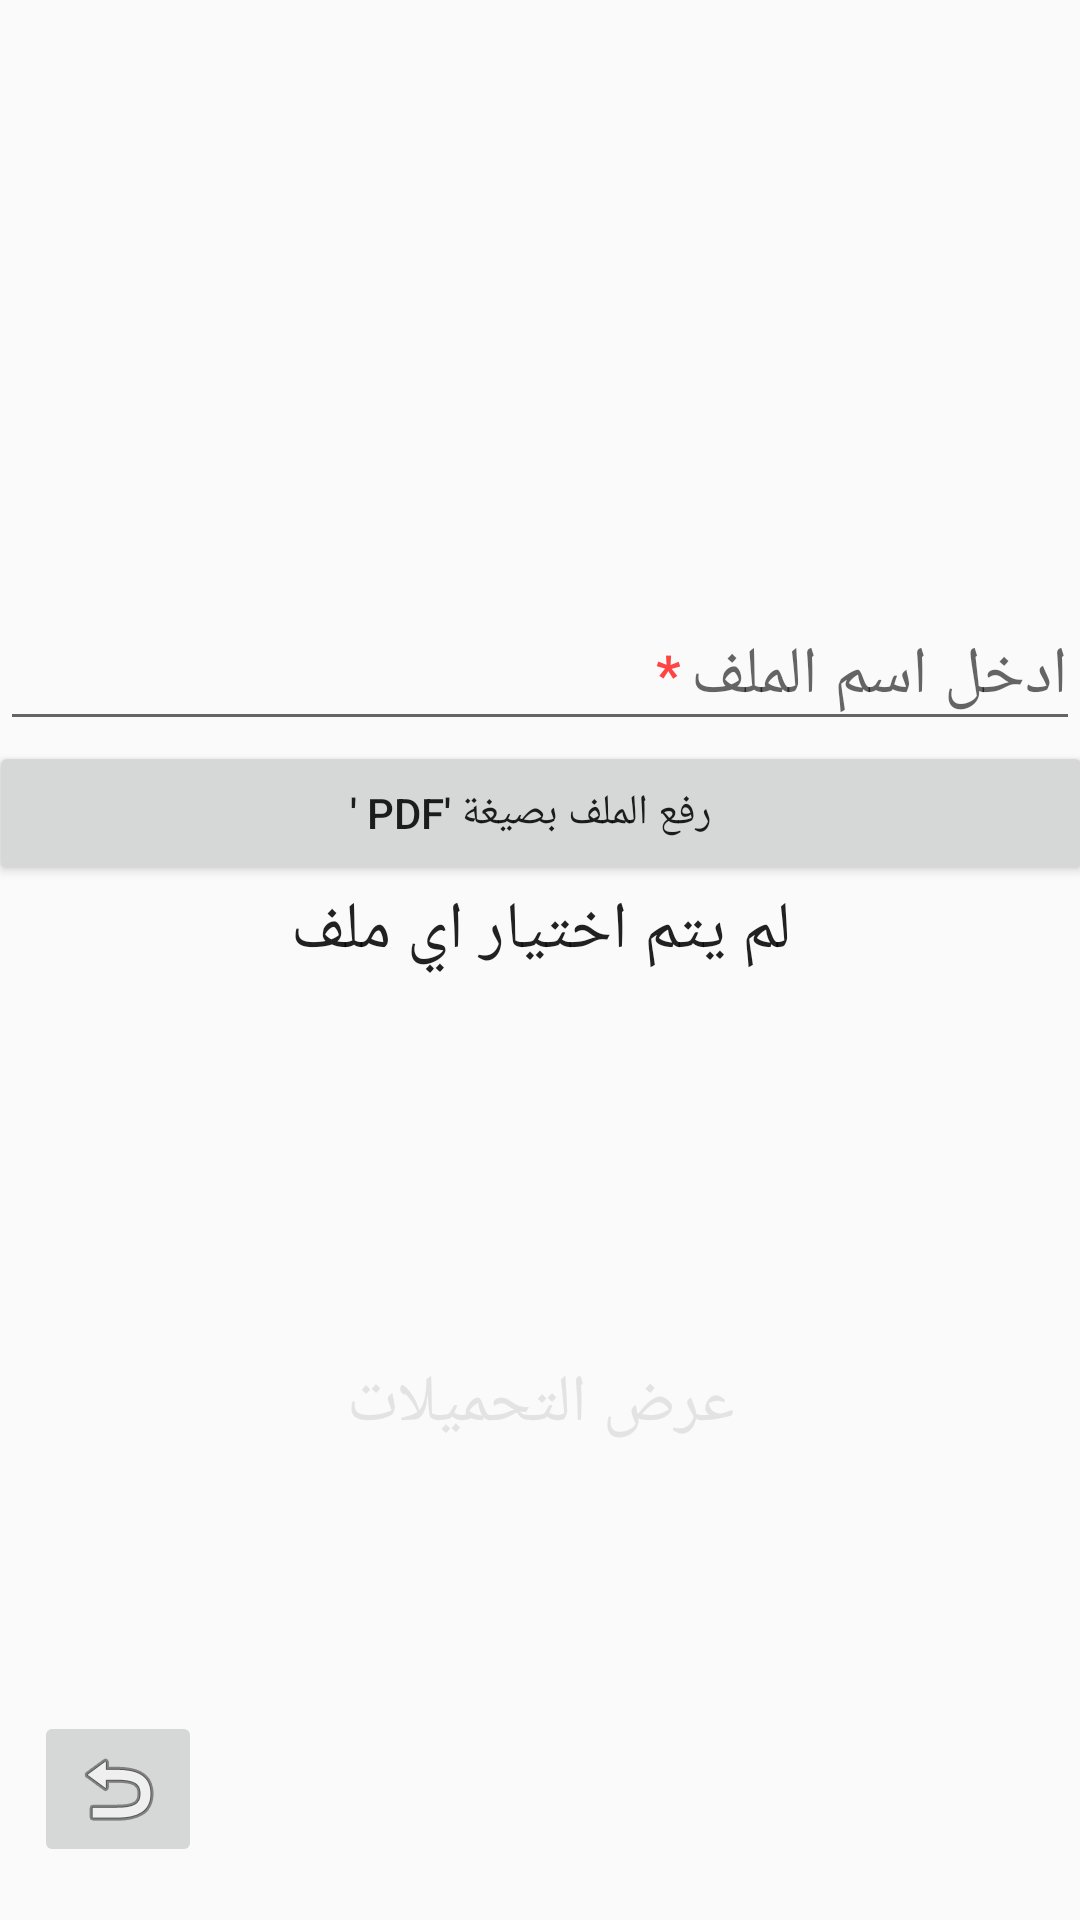

Where to tap for icons on this 1080*1920 app screen, as (x,y):
revert: (118,1789)
